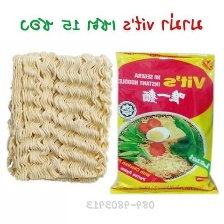snack: (104, 44, 224, 198)
